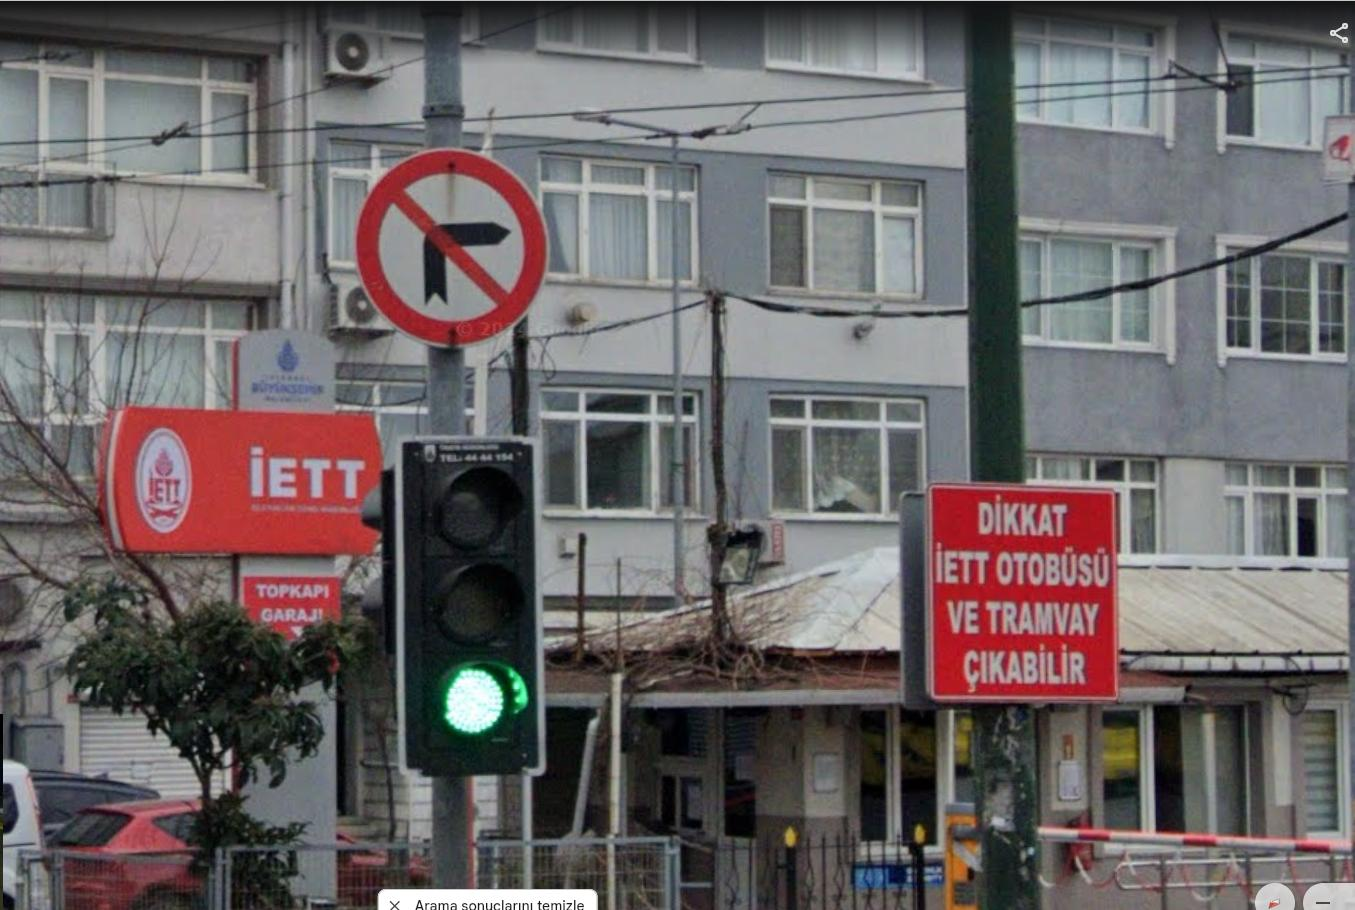greenlight: (394, 436, 539, 779)
rightturnsareforbidden: (360, 152, 538, 331)
